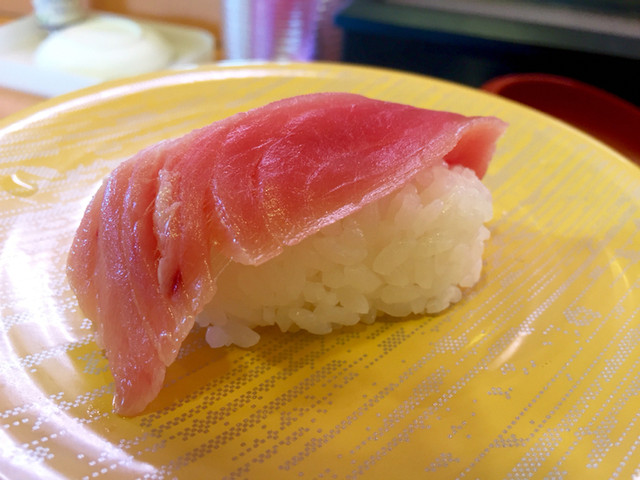medium_fatty_tuna: (71, 95, 501, 398)
